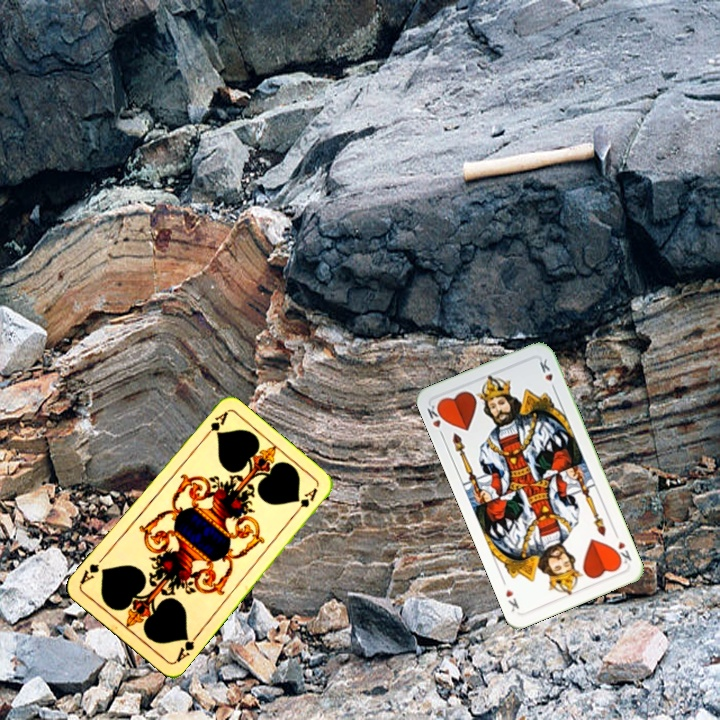GA: (199, 408, 230, 442), (171, 630, 201, 665)
HK: (423, 399, 448, 440), (610, 528, 634, 567)
